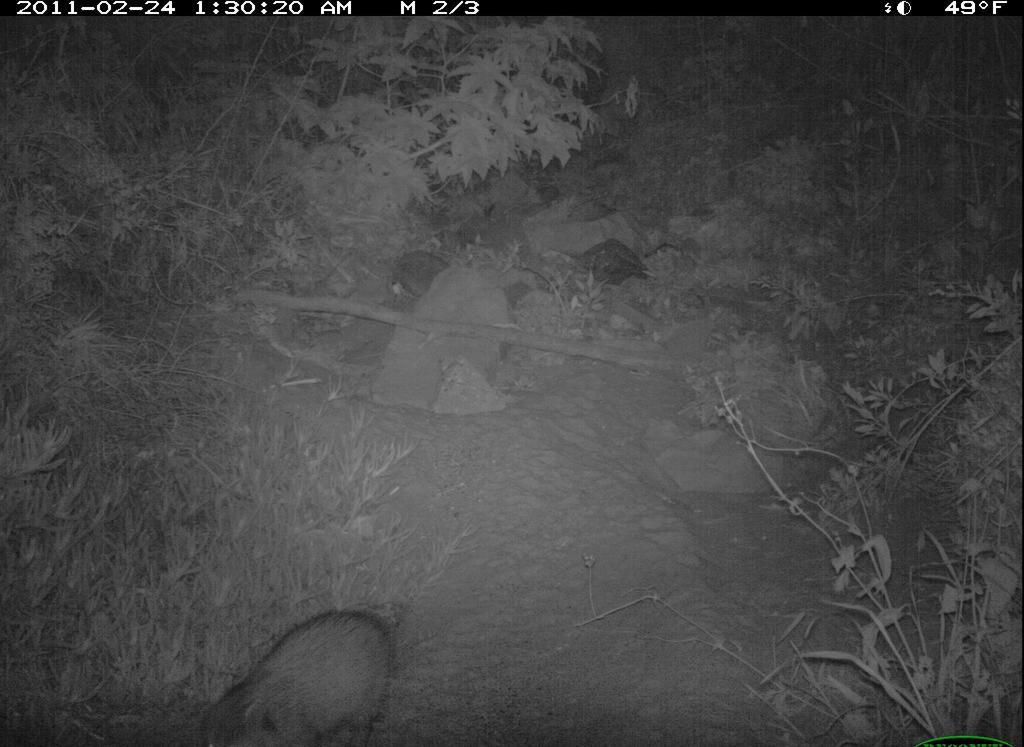raccoon: (191, 606, 404, 747)
